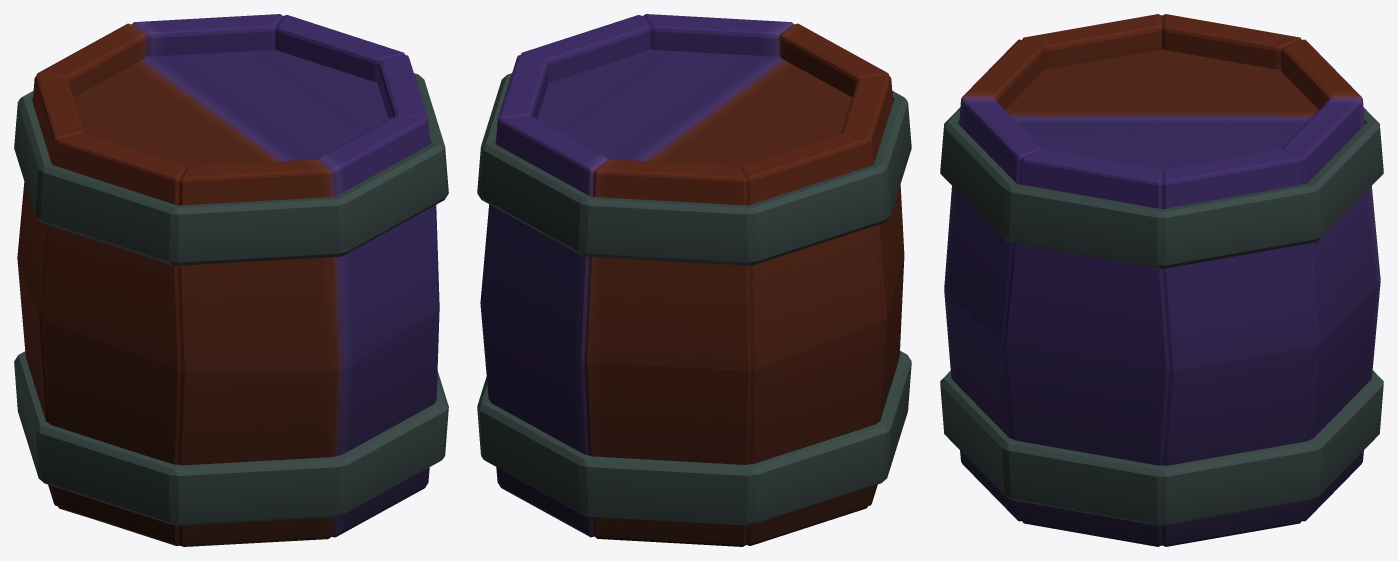
The model's file is FBX_BarrelClose.fbx.
The picture shows the model from 3 angles, left to right: view 1: azimuth 30°, elevation 25°; view 2: azimuth 150°, elevation 25°; view 3: azimuth 270°, elevation 25°; orthographic projection.
Visible parts, largest first — view 1: M_BarrelClose; view 2: M_BarrelClose; view 3: M_BarrelClose.
Part boxes in pixels (<box>): M_BarrelClose: <box>14,14,448,546</box>; M_BarrelClose: <box>477,14,911,546</box>; M_BarrelClose: <box>940,14,1383,546</box>.
Bounding box in the file's own units: 2.19 × 2 × 2.19.
